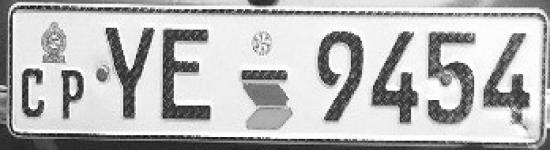-: (236, 60, 292, 82)
4: (478, 23, 536, 131), (367, 23, 424, 131)
5: (425, 20, 480, 137)
8: (52, 67, 88, 126)
9: (308, 22, 368, 132)
C: (18, 65, 49, 124)
E: (158, 24, 222, 126)
Y: (99, 21, 158, 127)
